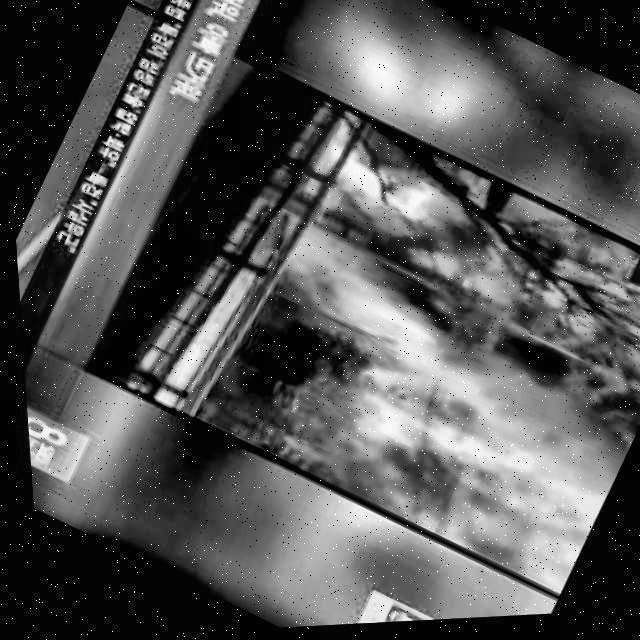Fire: (278, 120, 509, 312), (291, 123, 429, 245)
Smoke: (200, 225, 640, 609)
